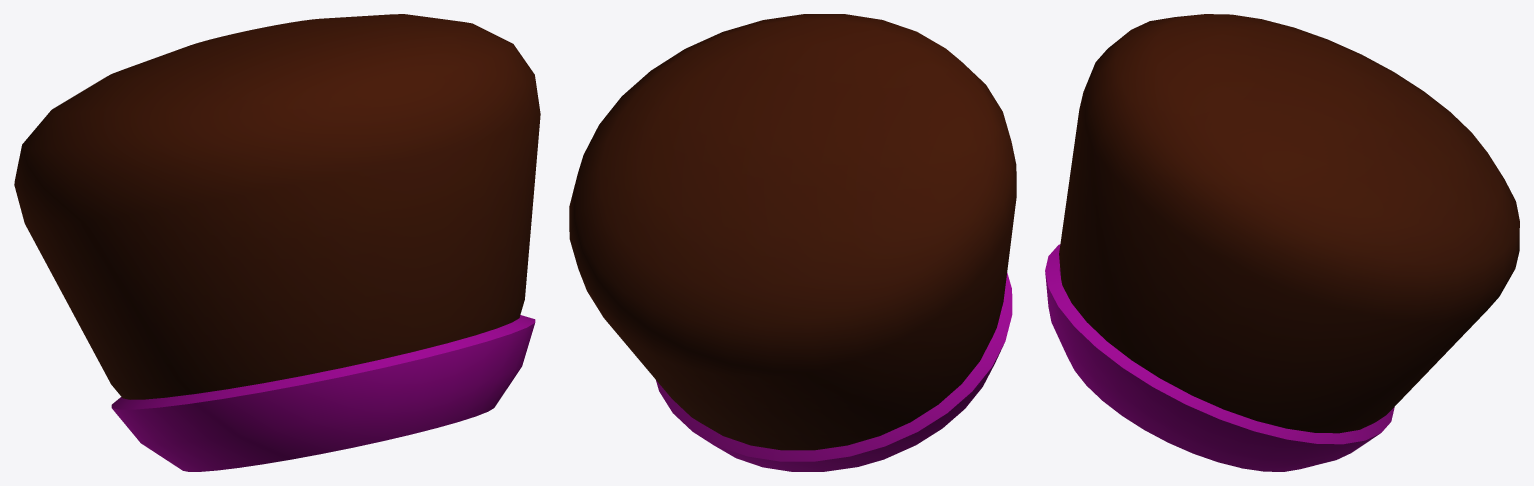
Rendered from Hair_01_C03.fbx.
3 renders of one model, left to right at view 1: azimuth 30°, elevation 25°; view 2: azimuth 150°, elevation 25°; view 3: azimuth 270°, elevation 25°, orthographic. The views are drawn at different scales.
Parts seen in each view (by area): view 1: Hair_01_C03; view 2: Hair_01_C03; view 3: Hair_01_C03.
Boxes of the visible parts, bbox=[...] form: Hair_01_C03: bbox=[14, 14, 540, 471]; Hair_01_C03: bbox=[569, 14, 1016, 471]; Hair_01_C03: bbox=[1045, 14, 1519, 471].
Bounding box in the file's own units: 181 × 168 × 183.
